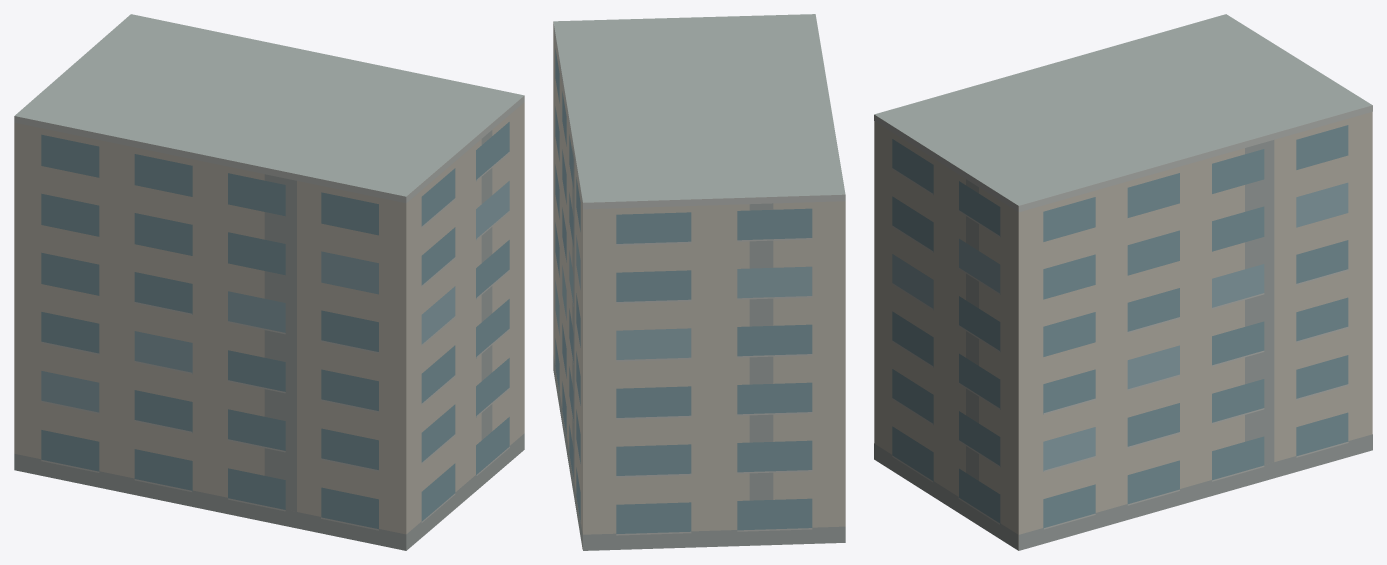
The model's file is survey-upis-32881729.glb.
3 views of the same model, side by side, from view 1: azimuth 30°, elevation 25°; view 2: azimuth 150°, elevation 25°; view 3: azimuth 270°, elevation 25° (orthographic). The views are drawn at different scales.
Parts seen in each view (by area): view 1: survey-upis-32881729.tmp; view 2: survey-upis-32881729.tmp; view 3: survey-upis-32881729.tmp.
Boxes of the visible parts, x1,y1,x2,y2 form: survey-upis-32881729.tmp: [14, 14, 524, 550]; survey-upis-32881729.tmp: [553, 14, 845, 550]; survey-upis-32881729.tmp: [874, 14, 1372, 550].
Size of the model in its own units: 15.51 by 12.99 by 17.03.
